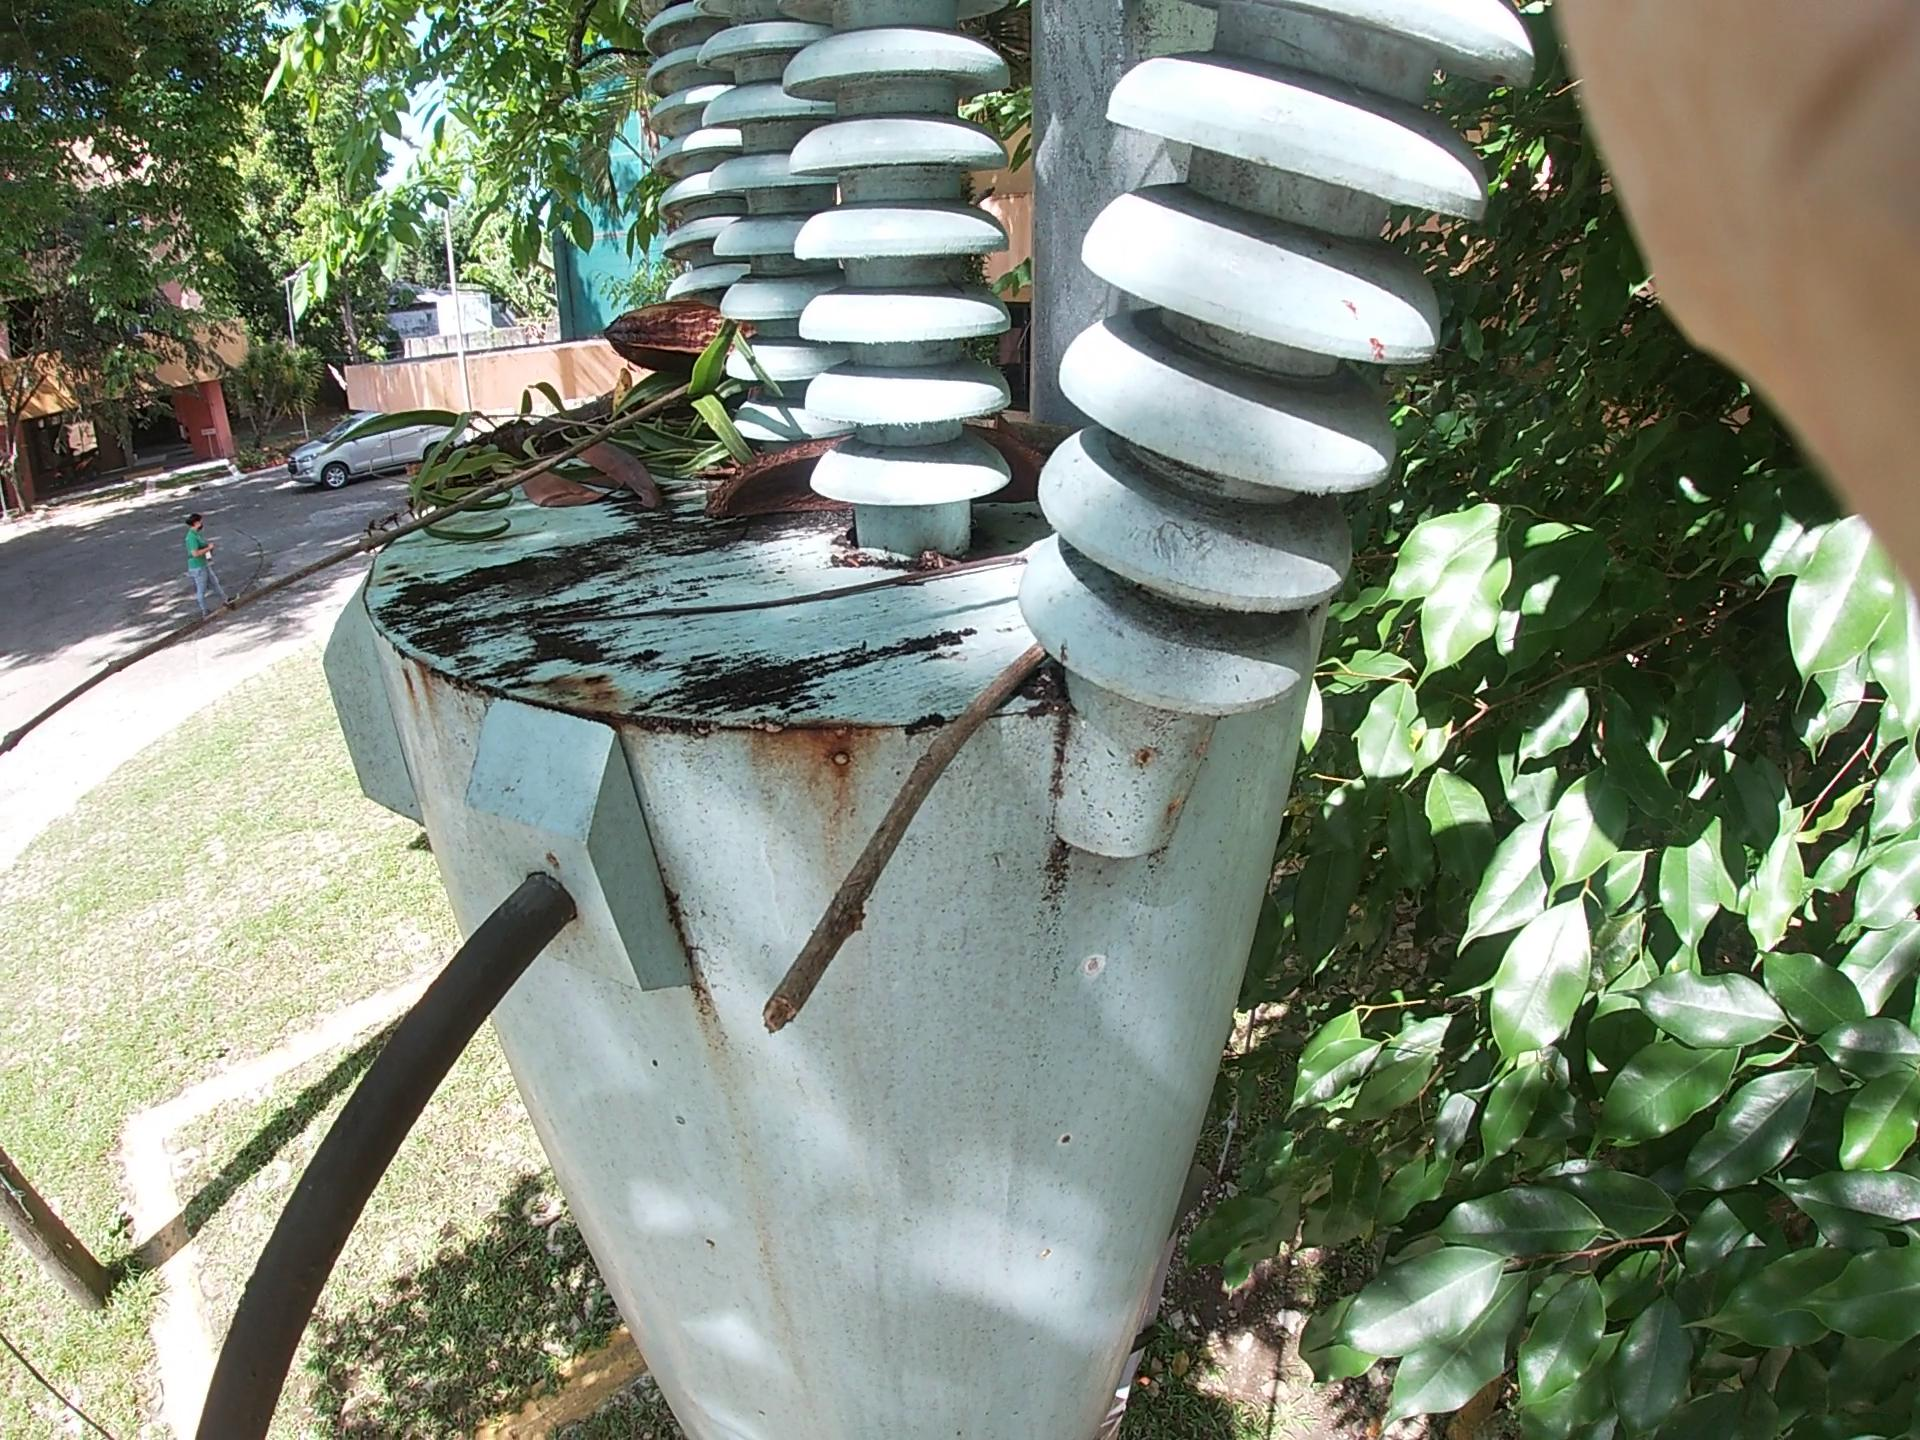branch with leaves: (272, 266, 1108, 504)
leaf: (531, 242, 683, 507)
mahogany fruit: (547, 265, 779, 427), (661, 399, 878, 563)
tree branch: (265, 289, 868, 616), (825, 637, 1152, 1000)
